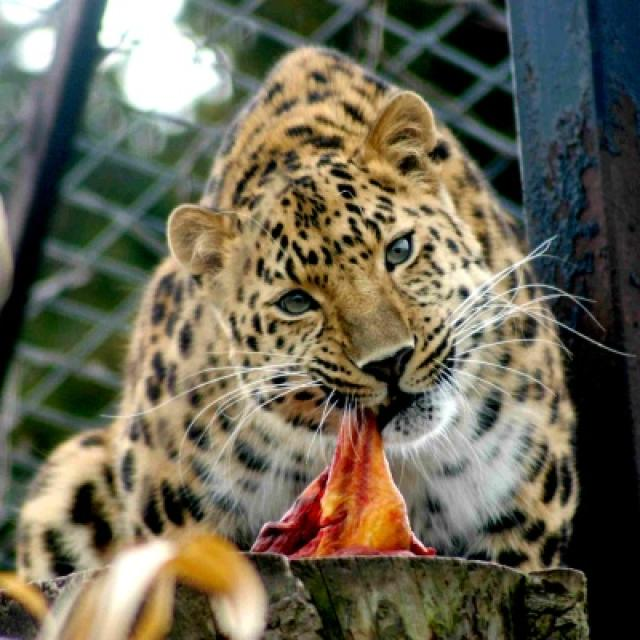Jaguar: (1, 40, 634, 592)
